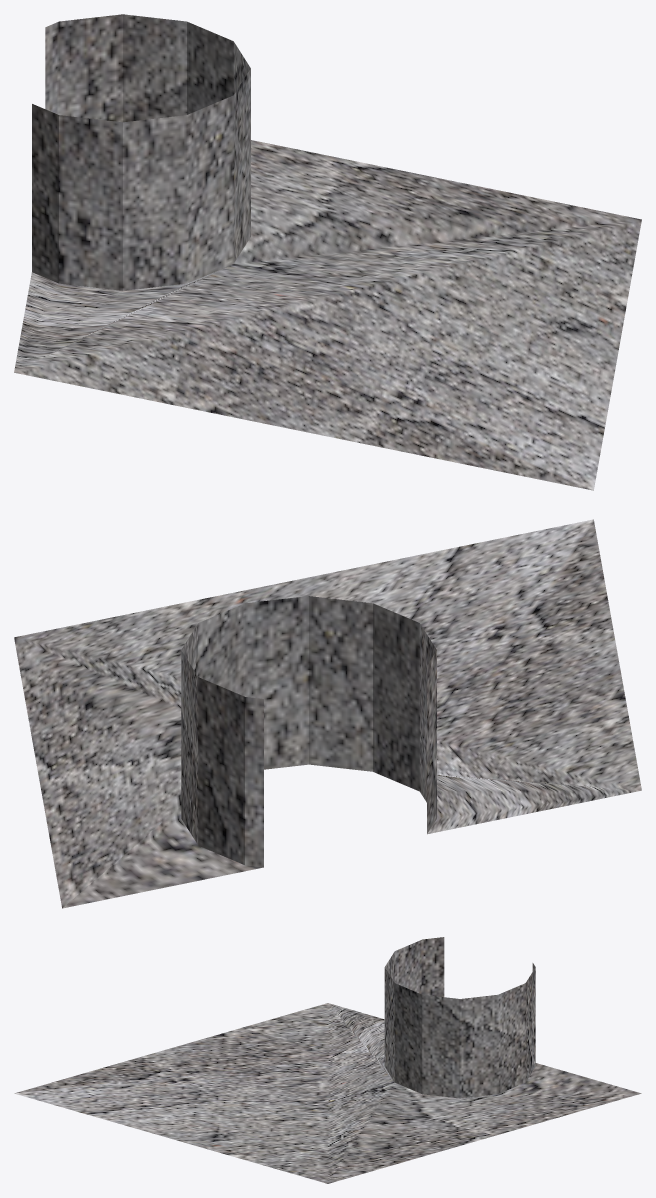
The model's file is sewerStageRoof.fbx.
3 renders of one model, top to bottom at view 1: azimuth 30°, elevation 25°; view 2: azimuth 150°, elevation 25°; view 3: azimuth 270°, elevation 25°, orthographic. The views are drawn at different scales.
Visible parts, largest first — view 1: roomRoof; view 2: roomRoof; view 3: roomRoof.
Part boxes in pixels (bbox=[...]): roomRoof: bbox=[14, 14, 641, 490]; roomRoof: bbox=[14, 519, 641, 908]; roomRoof: bbox=[14, 937, 641, 1183].
Size of the model in its own units: 405 by 104 by 594.
